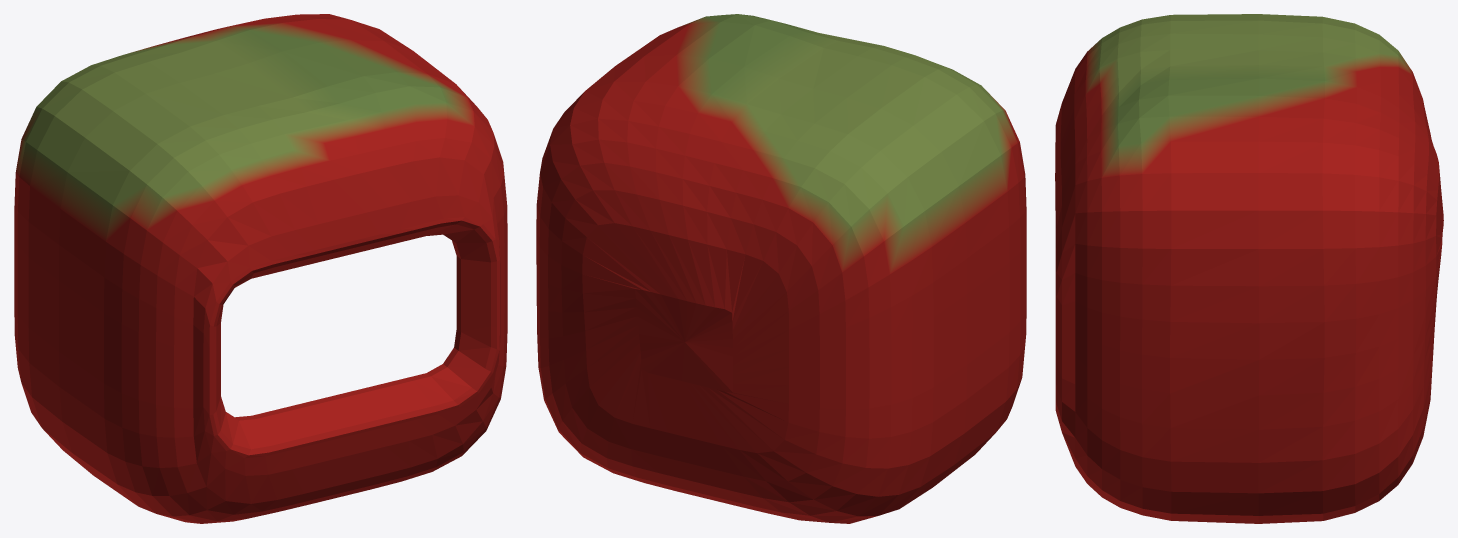
The model's file is strawberry_suit.glb.
3 views of the same model, side by side, from view 1: azimuth 30°, elevation 25°; view 2: azimuth 150°, elevation 25°; view 3: azimuth 270°, elevation 25° (orthographic).
Visible parts, largest first — view 1: geometry_0; view 2: geometry_0; view 3: geometry_0.
Boxes of the visible parts, x1,y1,x2,y2 form: geometry_0: (14, 14, 507, 523); geometry_0: (536, 14, 1026, 523); geometry_0: (1055, 14, 1443, 523).
Bounding box in the file's own units: 1.77 × 1.73 × 1.51.
